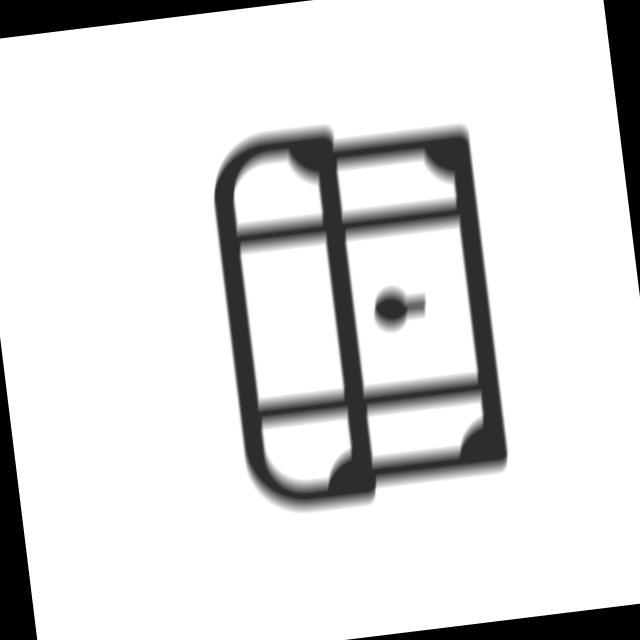treasure_box: (198, 98, 523, 527)
